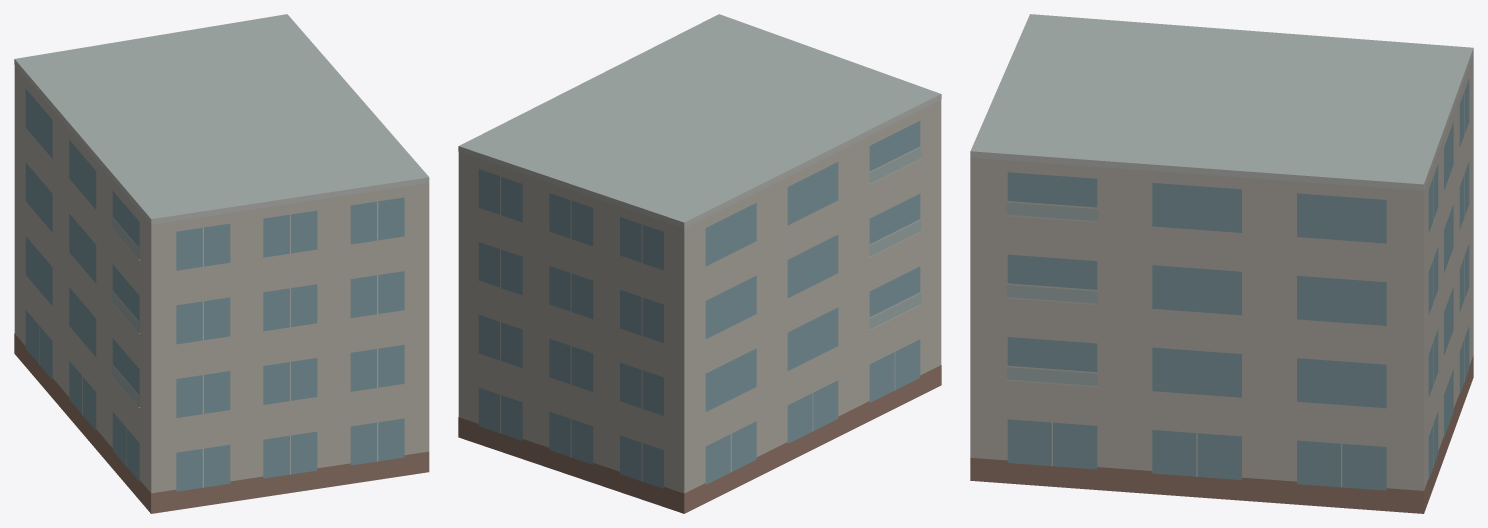
File: survey-upis-32690107.glb
3 renders of one model, left to right at view 1: azimuth 30°, elevation 25°; view 2: azimuth 150°, elevation 25°; view 3: azimuth 270°, elevation 25°, orthographic. The views are drawn at different scales.
Parts seen in each view (by area): view 1: survey-upis-32690107.tmp; view 2: survey-upis-32690107.tmp; view 3: survey-upis-32690107.tmp.
Part boxes in pixels (box(x1,y1,x2,y2)): survey-upis-32690107.tmp: box(14, 14, 429, 513); survey-upis-32690107.tmp: box(458, 14, 941, 513); survey-upis-32690107.tmp: box(970, 14, 1473, 513).
Size of the model in its own units: 14.26 by 12.85 by 17.8.
